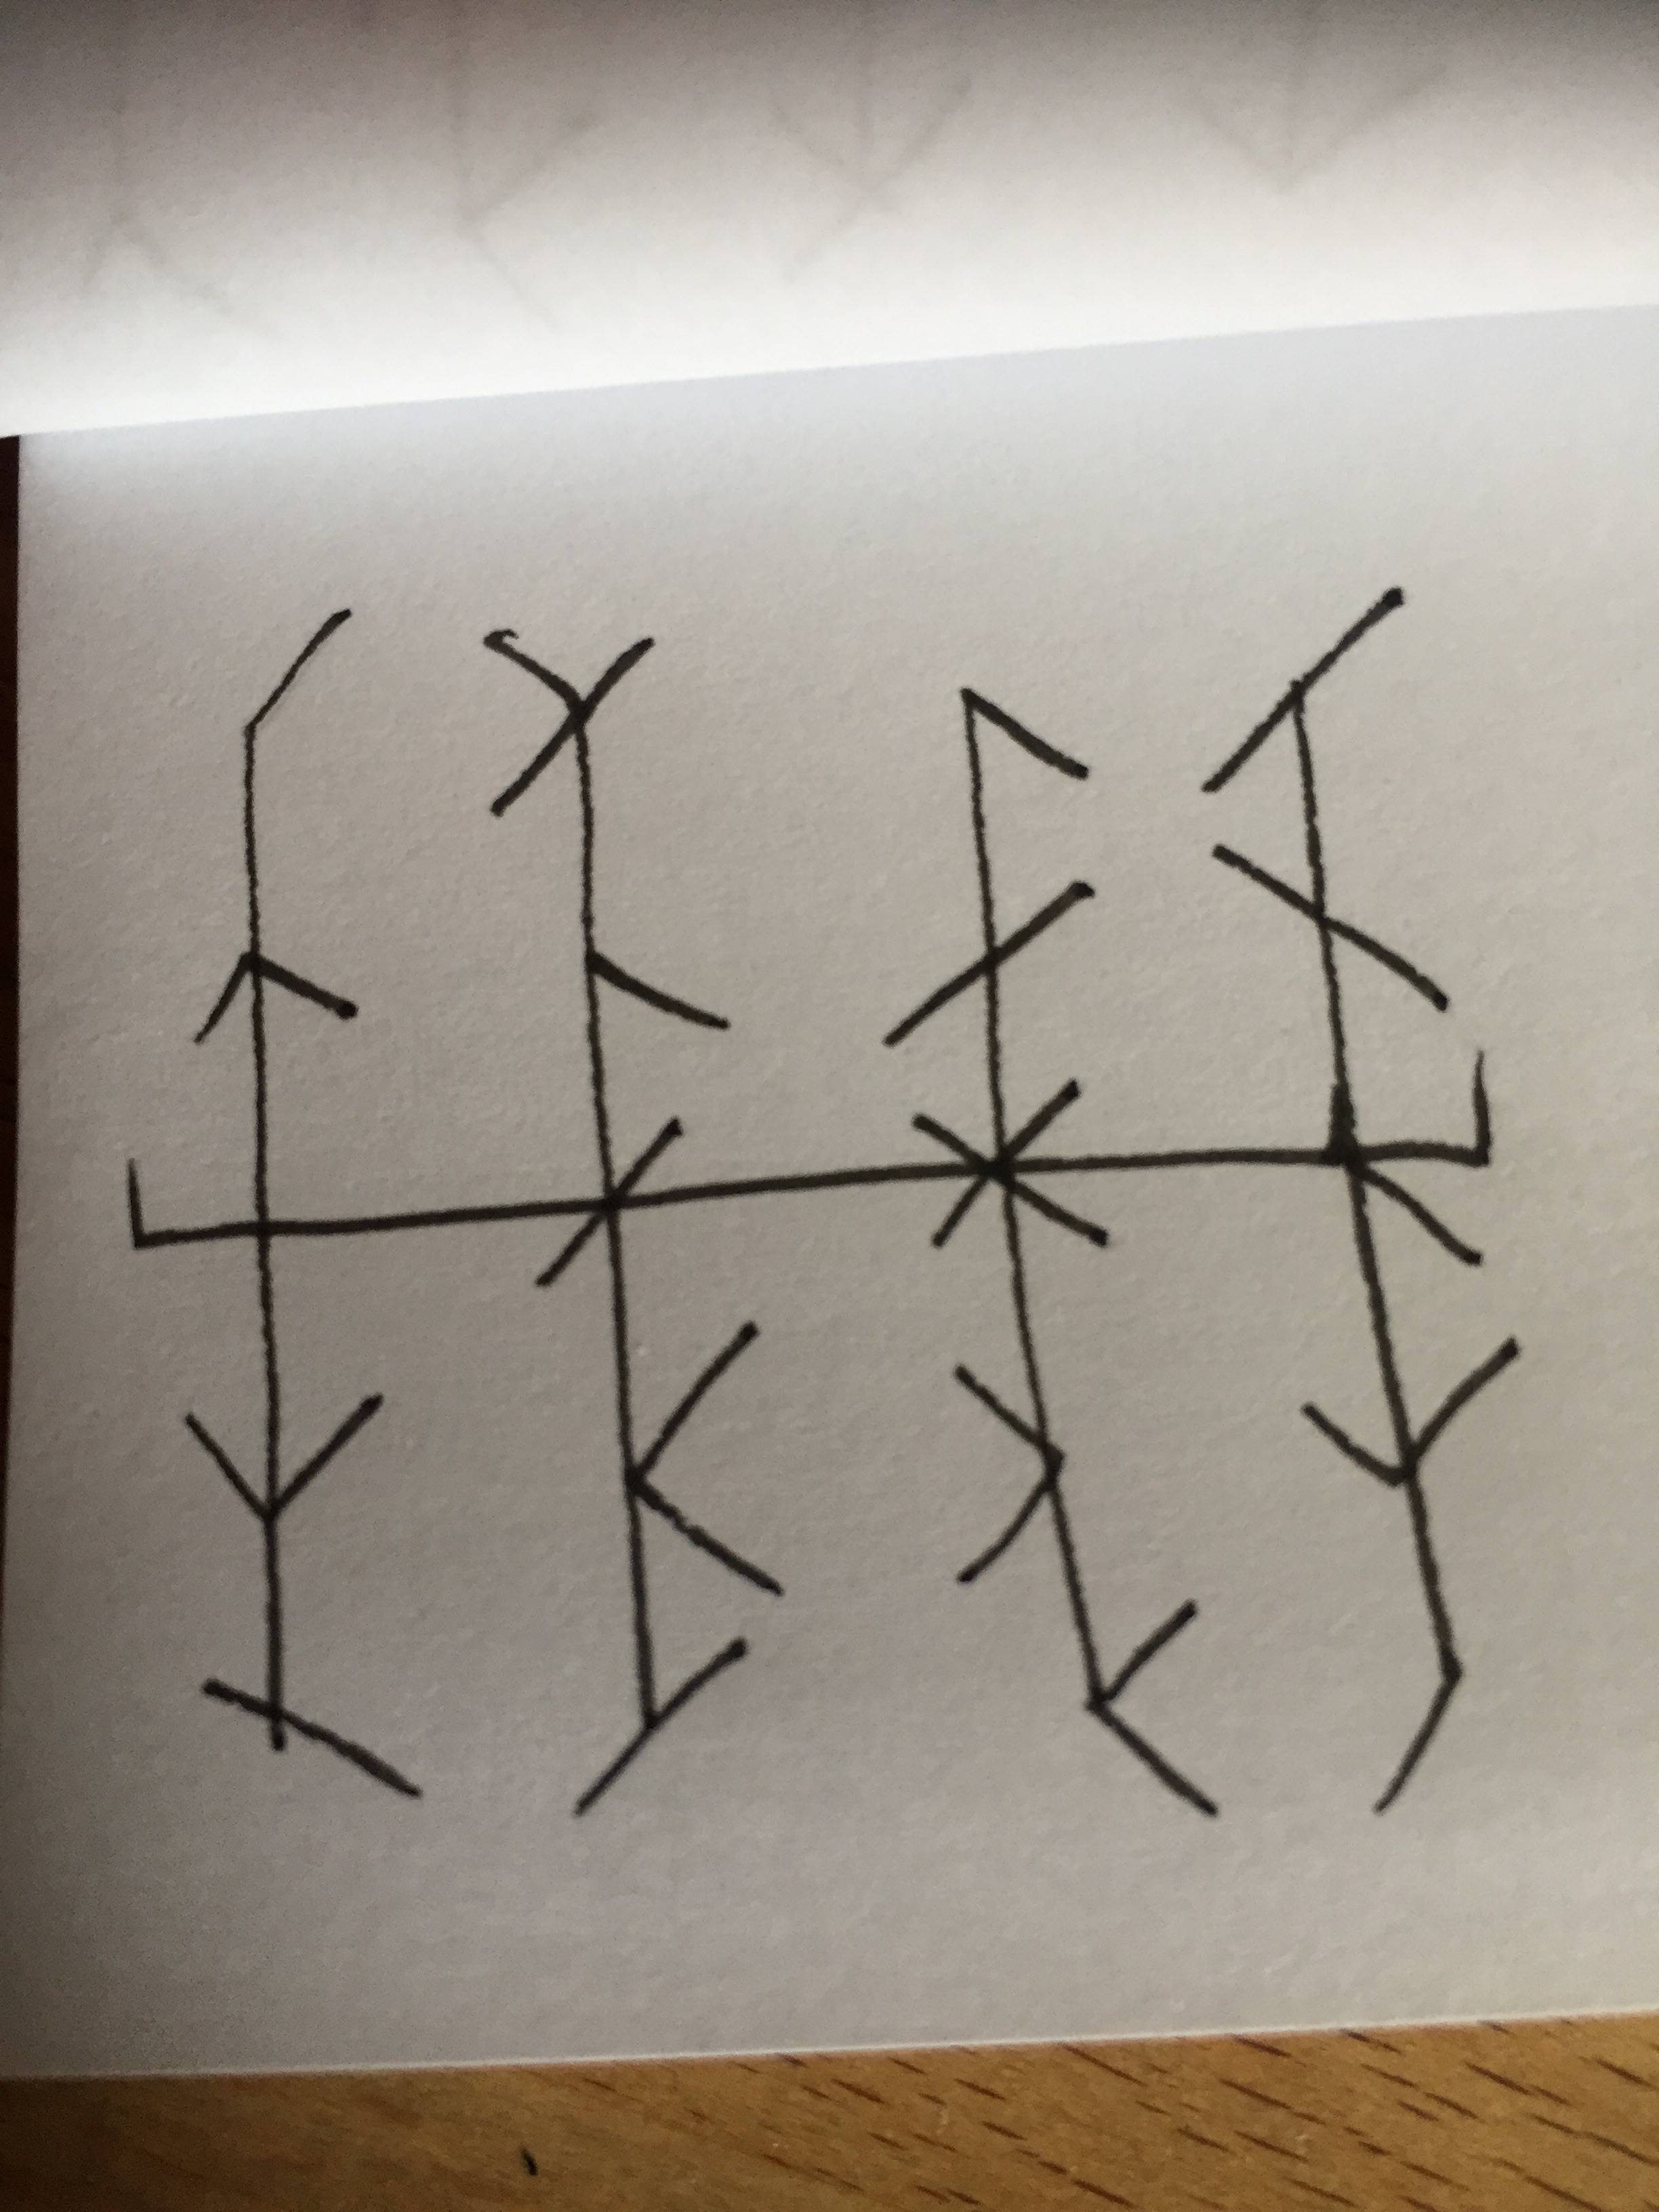Bar: (1199, 587, 1518, 1820), (882, 683, 1218, 1817), (479, 631, 784, 1818), (183, 608, 425, 1801)
Barcode: (127, 583, 1520, 1818)
End: (1375, 1050, 1495, 1170)
Start: (124, 1158, 253, 1252)
